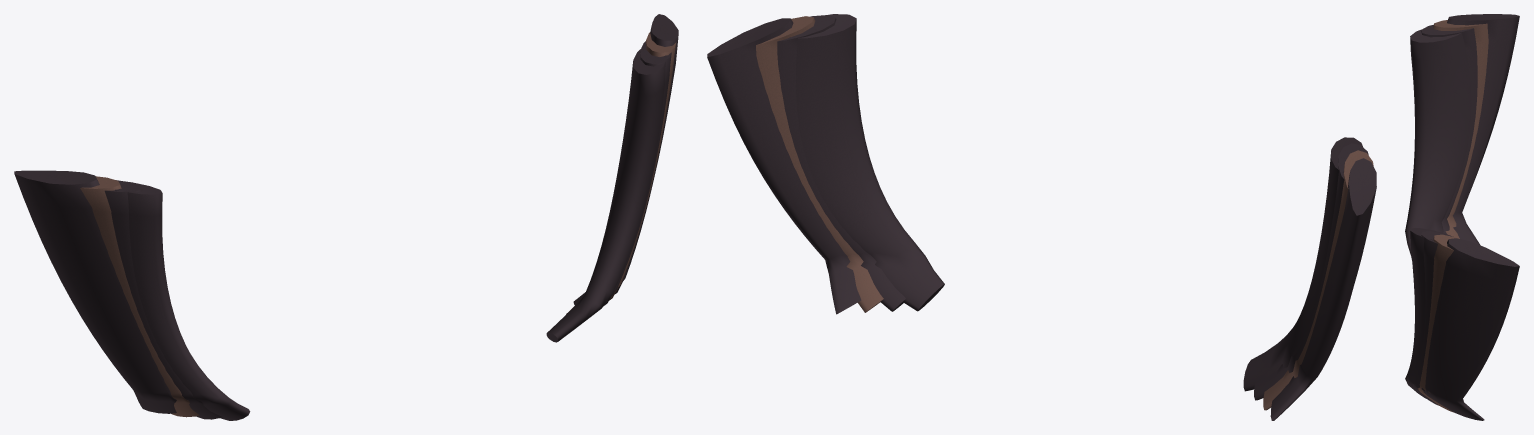
File: facial_mutton_chops_default.gltf
The picture shows the model from 3 angles, left to right: view 1: azimuth 30°, elevation 25°; view 2: azimuth 150°, elevation 25°; view 3: azimuth 270°, elevation 25°; orthographic projection. The views are drawn at different scales.
Parts seen in each view (by area): view 1: Mutton Chops default; view 2: Mutton Chops default; view 3: Mutton Chops default.
Boxes of the visible parts, left/top/right/bottom form: Mutton Chops default: left=14, top=14, right=678, bottom=420; Mutton Chops default: left=707, top=14, right=1376, bottom=420; Mutton Chops default: left=1405, top=14, right=1519, bottom=420.
Size of the model in its own units: 0.4247 by 0.1654 by 0.0817.
2 materials, 2 textured.
